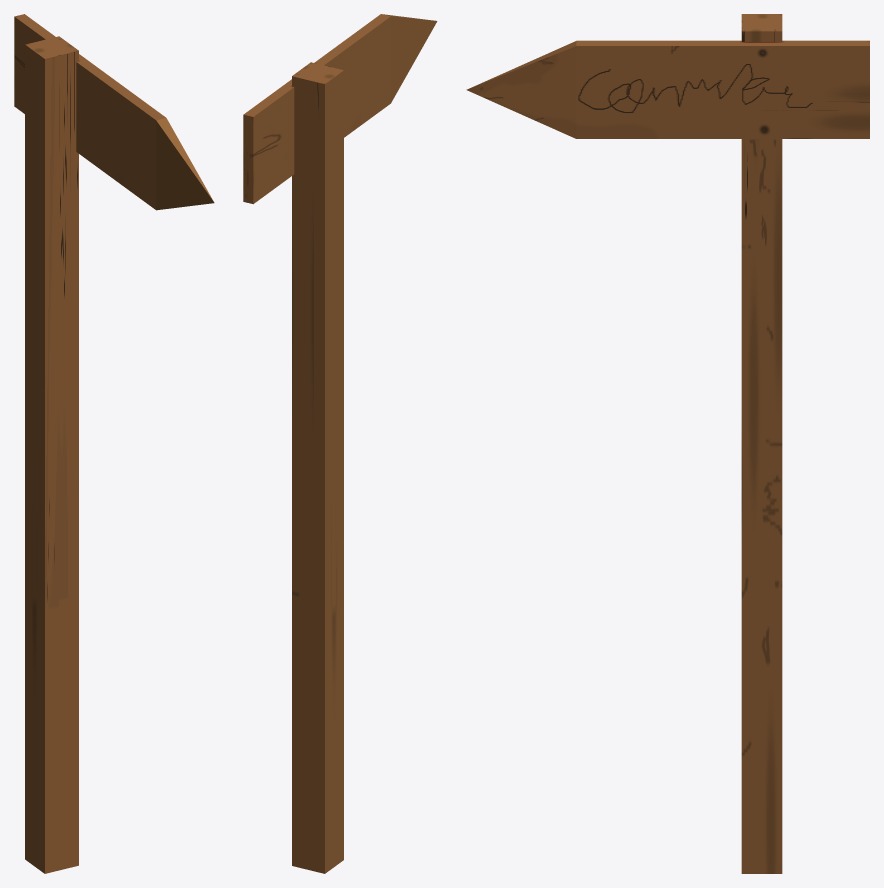
File: PanneauDirection.glb
The picture shows the model from 3 angles, left to right: view 1: azimuth 30°, elevation 25°; view 2: azimuth 150°, elevation 25°; view 3: azimuth 270°, elevation 25°; orthographic projection. The views are drawn at different scales.
Parts seen in each view (by area): view 1: Cube.001; view 2: Cube.001; view 3: Cube.001.
Part boxes in pixels (x1,y1,x2,y2): Cube.001: (14, 14, 214, 873); Cube.001: (243, 14, 437, 873); Cube.001: (466, 14, 869, 873).
Size of the model in its own units: 0.1256 by 2.34 by 1.02.
1 material, 1 textured.
